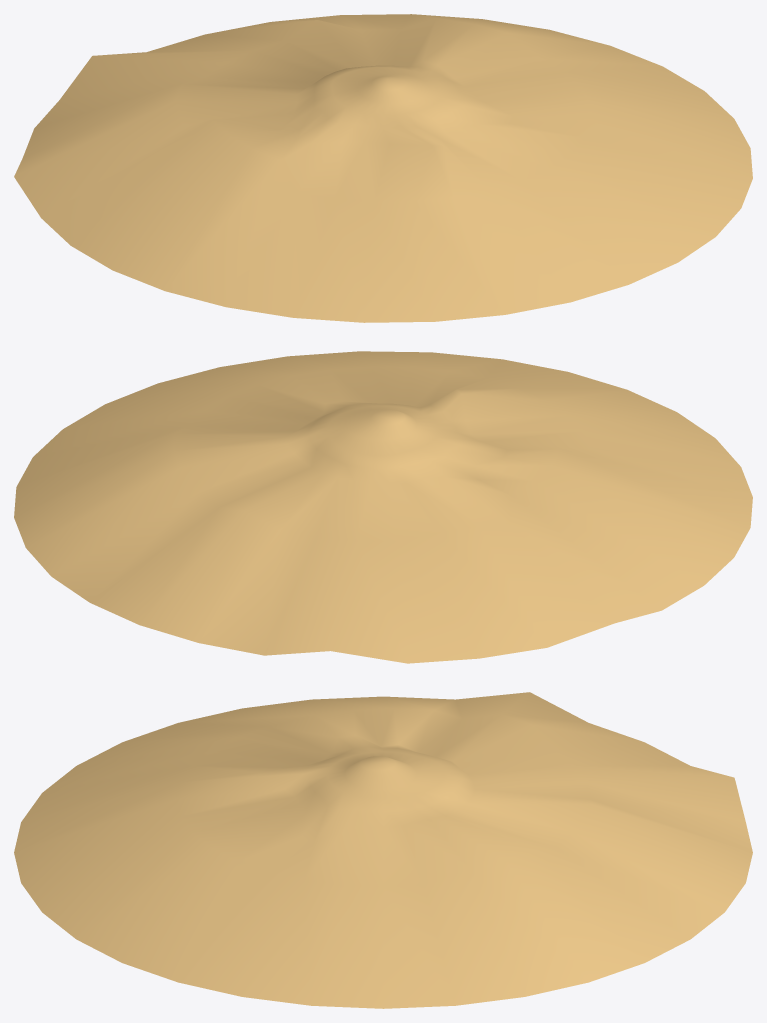
Rendered from big_island_002.glb.
The picture shows the model from 3 angles, top to bottom: view 1: azimuth 30°, elevation 25°; view 2: azimuth 150°, elevation 25°; view 3: azimuth 270°, elevation 25°; orthographic projection.
Parts seen in each view (by area): view 1: Sphere.001; view 2: Sphere.001; view 3: Sphere.001.
Boxes of the visible parts, box(x1,y1,x2,y2) form: Sphere.001: box(14, 14, 752, 322); Sphere.001: box(14, 351, 752, 663); Sphere.001: box(14, 692, 752, 1008).
Size of the model in its own units: 82.68 by 11.14 by 82.68.
